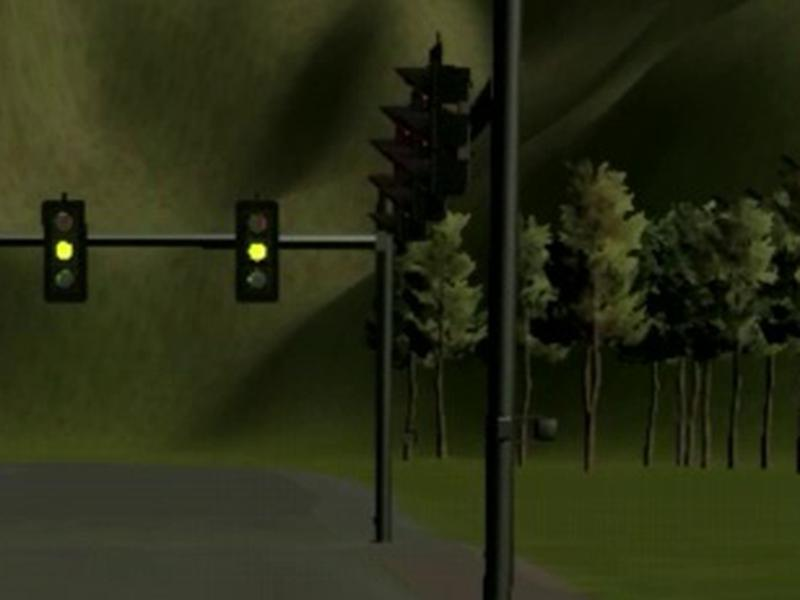Yellow: (42, 199, 86, 303), (235, 201, 277, 302)
